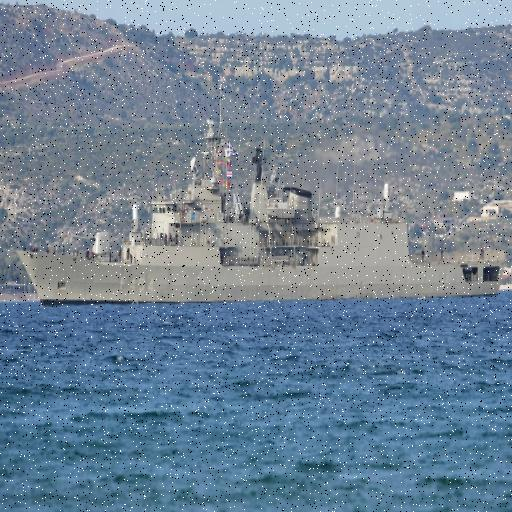Fragata: (14, 123, 504, 315)
